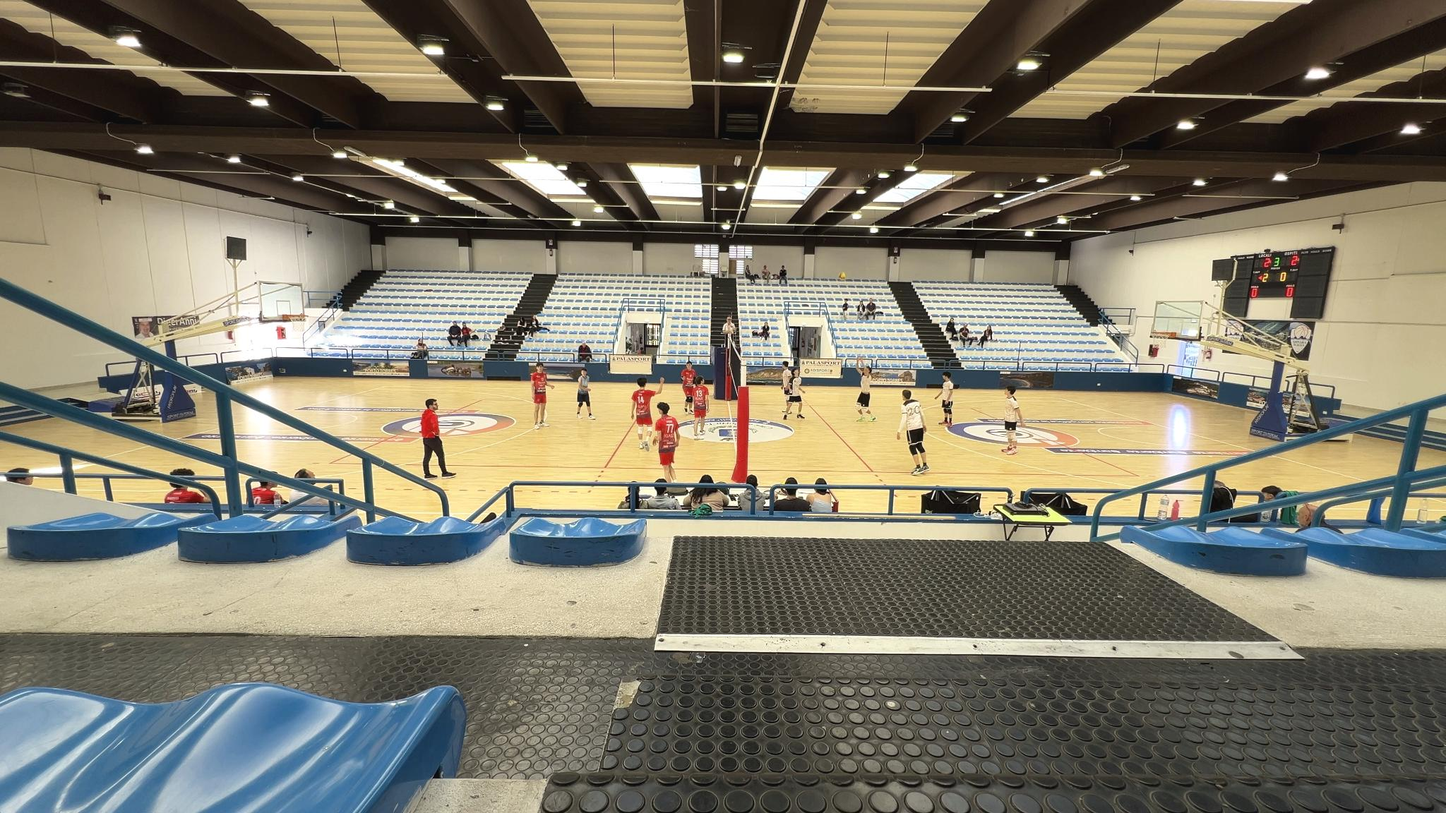volleyball court: (330, 397, 1140, 479)
